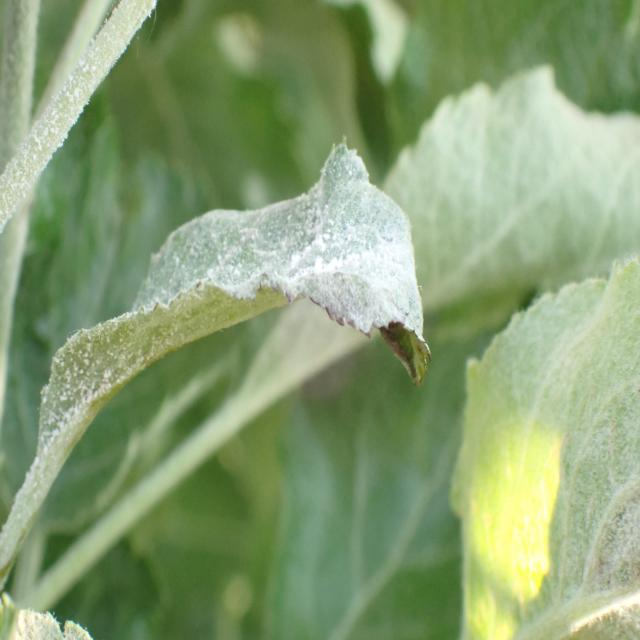Powdery_mildew: (36, 131, 431, 559), (236, 59, 640, 421), (450, 273, 640, 639)
